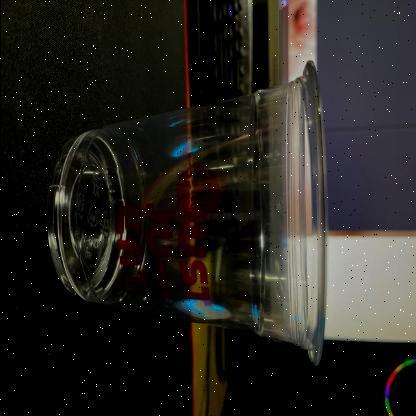Others: (42, 60, 326, 367)
